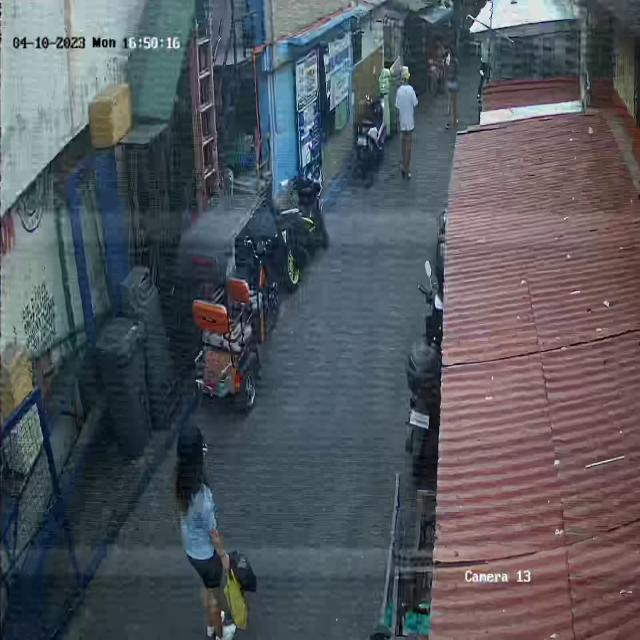garbage_dumping: (226, 538, 257, 630)
